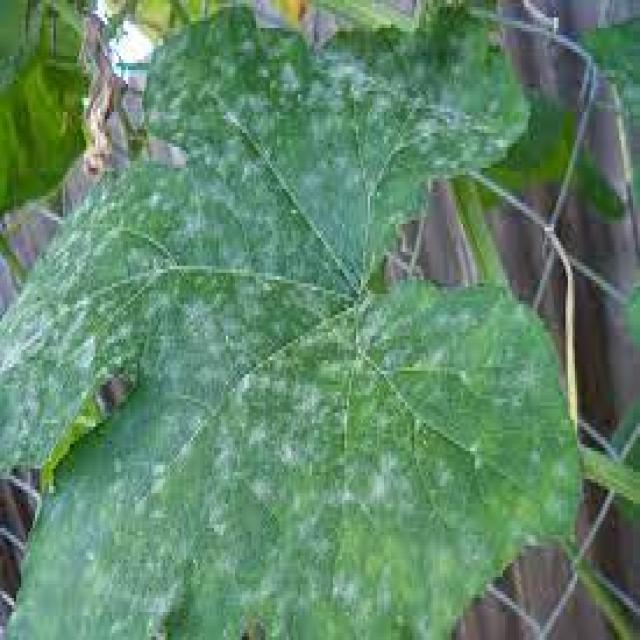powdery-mildew: (23, 215, 94, 395), (297, 50, 456, 111), (118, 553, 180, 627)
